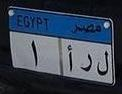1: (30, 40, 39, 66)
alif: (65, 43, 75, 72)
laam: (95, 50, 110, 76)
raa: (81, 52, 93, 71)
